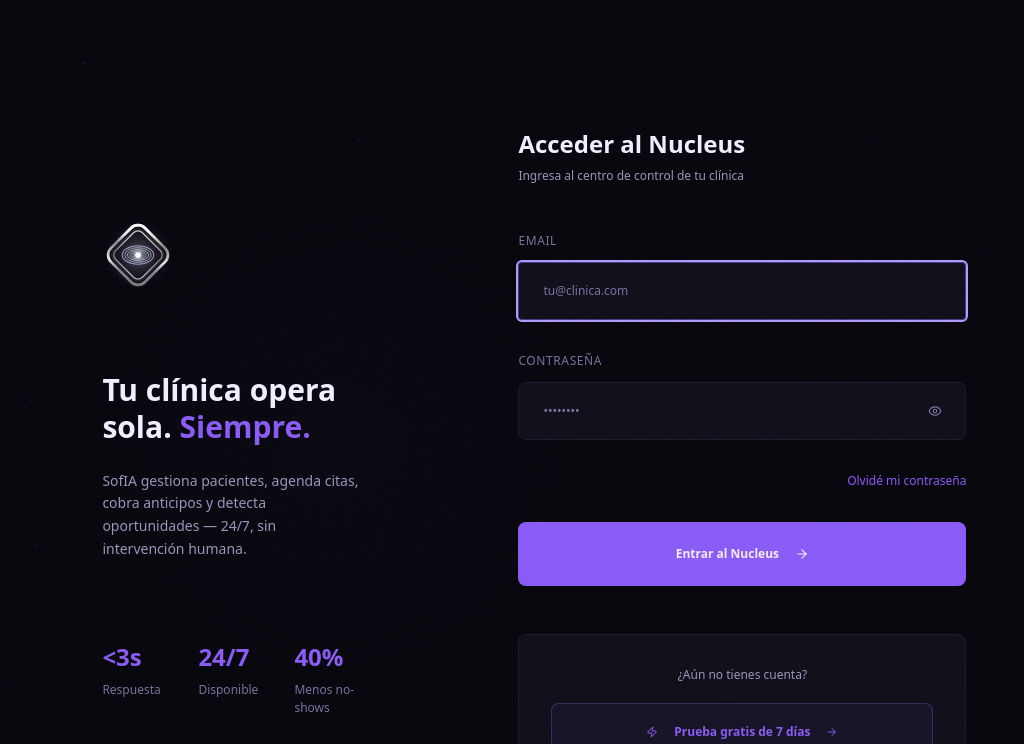
Test: LoginPage › should display network error message when signInWithPassword throws
Type "doc@clinica.com" into the field with placeholder "tu@clinica.com" at (742, 291), box [518,262,966,320]
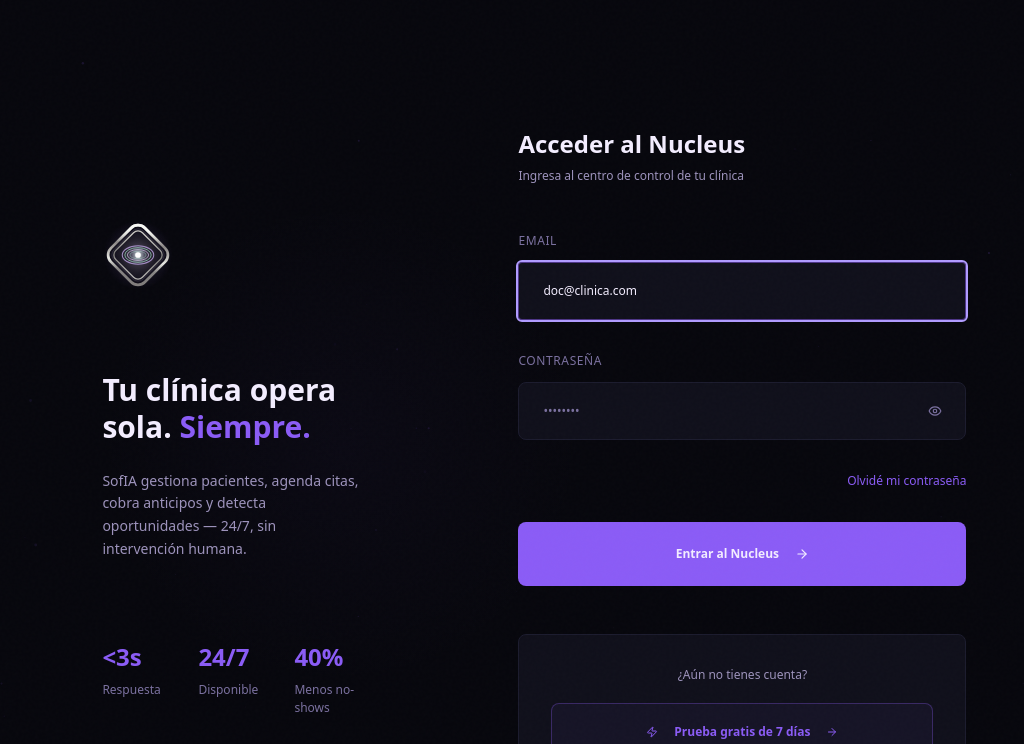
Type "pass" into the password field with placeholder "••••••••" at (742, 411), box [518,382,966,440]
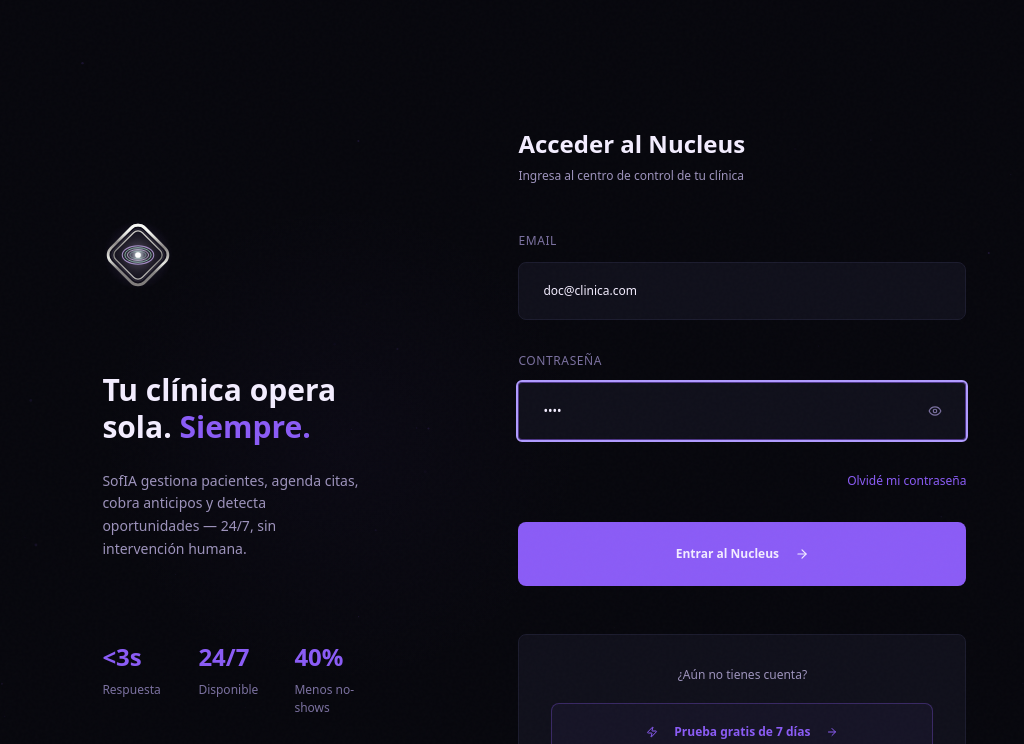
Click the button "Entrar al Nucleus" at (742, 554), box [518,522,966,586]
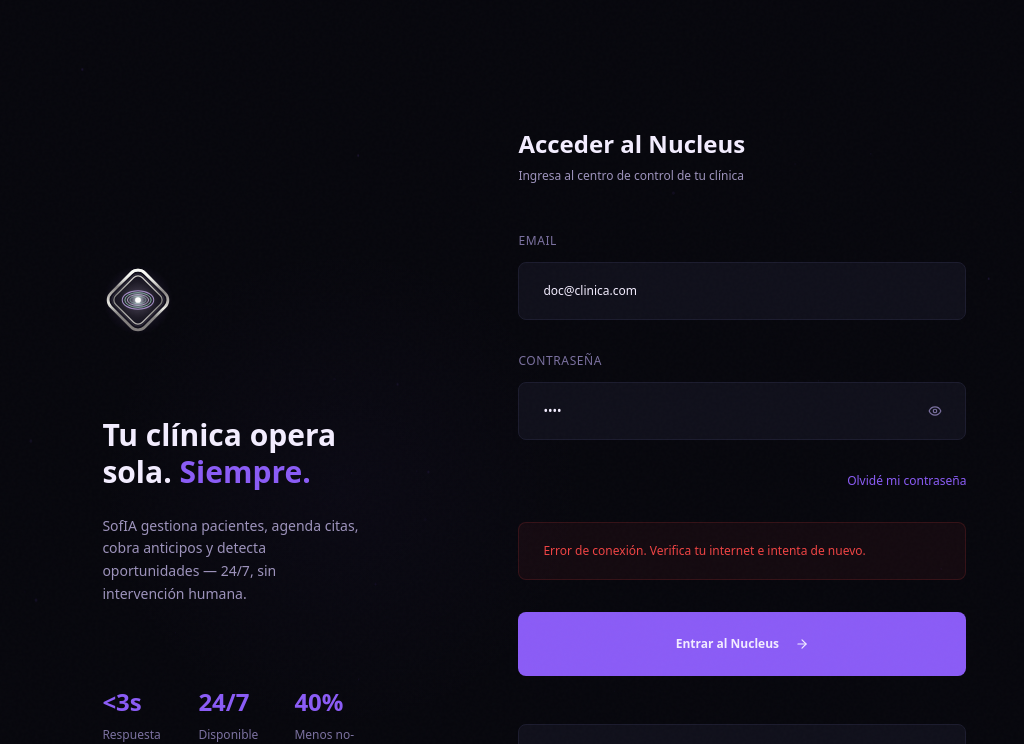
Check: the text "Error de conexión. Verifica tu internet e intenta de nuevo." is shown, box [518,522,966,580]
